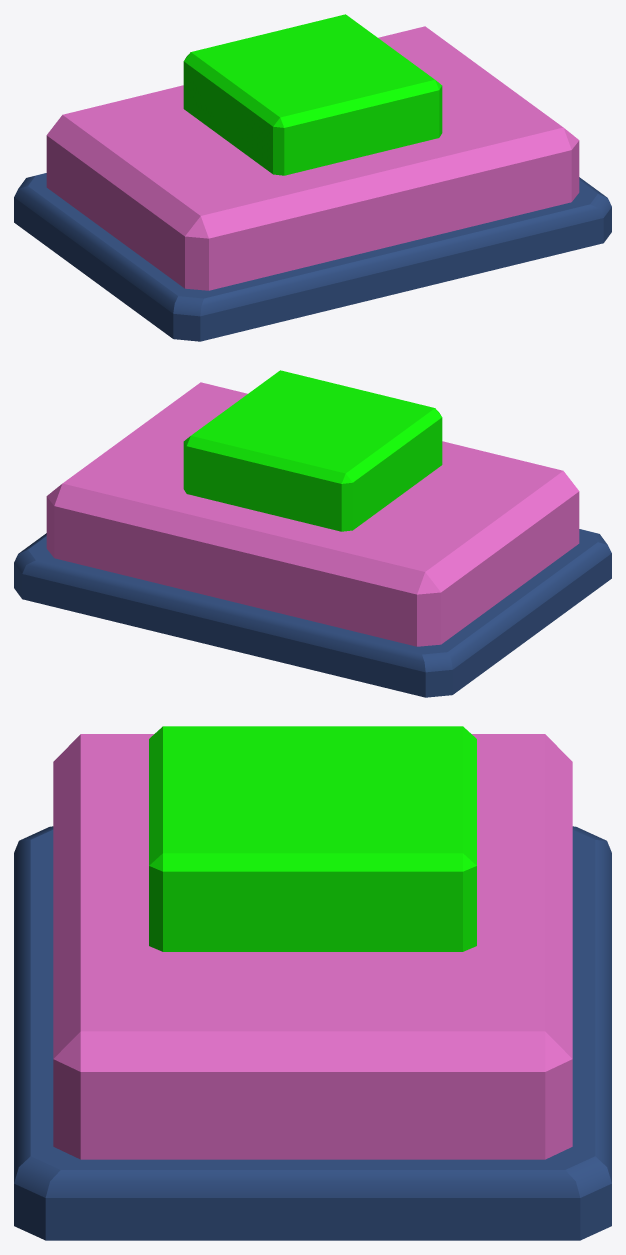
Rendered from Prekidac_2.fbx.
The picture shows the model from 3 angles, top to bottom: view 1: azimuth 30°, elevation 25°; view 2: azimuth 150°, elevation 25°; view 3: azimuth 270°, elevation 25°; orthographic projection. The views are drawn at different scales.
Visible parts, largest first — view 1: Cube.006, Cube.007; view 2: Cube.006, Cube.007; view 3: Cube.006, Cube.007.
Boxes of the visible parts, left/top/right/bottom form: Cube.006: left=14, top=26, right=611, bottom=341; Cube.007: left=183, top=14, right=442, bottom=175; Cube.006: left=14, top=382, right=611, bottom=697; Cube.007: left=183, top=370, right=442, bottom=531; Cube.006: left=14, top=734, right=611, bottom=1240; Cube.007: left=149, top=726, right=476, bottom=951.
Size of the model in its own units: 0.7339 by 0.258 by 0.516.
